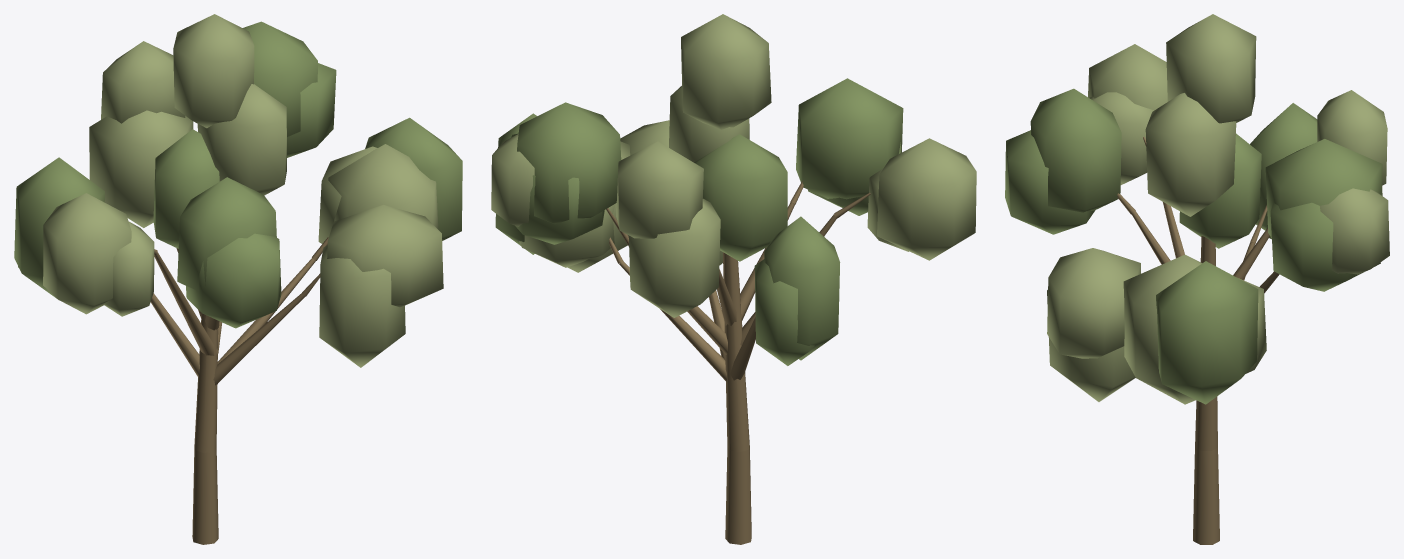
The model's file is tree-c.glb.
The picture shows the model from 3 angles, left to right: view 1: azimuth 30°, elevation 25°; view 2: azimuth 150°, elevation 25°; view 3: azimuth 270°, elevation 25°; orthographic projection. The views are drawn at different scales.
Visible parts, largest first — view 1: leaf_sage, leaf_olive, bark; view 2: leaf_sage, leaf_olive, bark; view 3: leaf_sage, leaf_olive, bark.
Boxes of the visible parts, x1=… form: leaf_sage: x1=43, y1=14, x2=443, y2=367; leaf_olive: x1=14, y1=21, x2=462, y2=328; bark: x1=150, y1=237, x2=328, y2=544; leaf_sage: x1=491, y1=14, x2=976, y2=317; leaf_olive: x1=495, y1=78, x2=903, y2=365; bark: x1=606, y1=181, x2=870, y2=544; leaf_sage: x1=1047, y1=14, x2=1389, y2=404; leaf_olive: x1=1005, y1=88, x2=1382, y2=404; bark: x1=1117, y1=136, x2=1279, y2=544.
Bounding box in the file's own units: 5.14 × 5.91 × 3.87.
